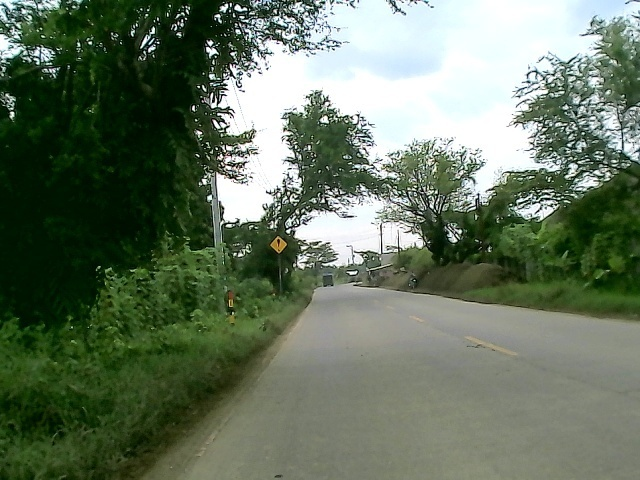Hati-hati: (269, 235, 288, 256)
